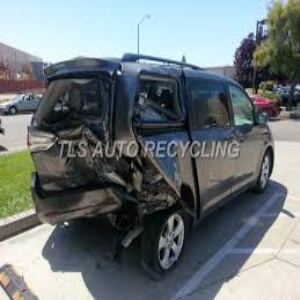bumper_scratch: (90, 72, 246, 179)
